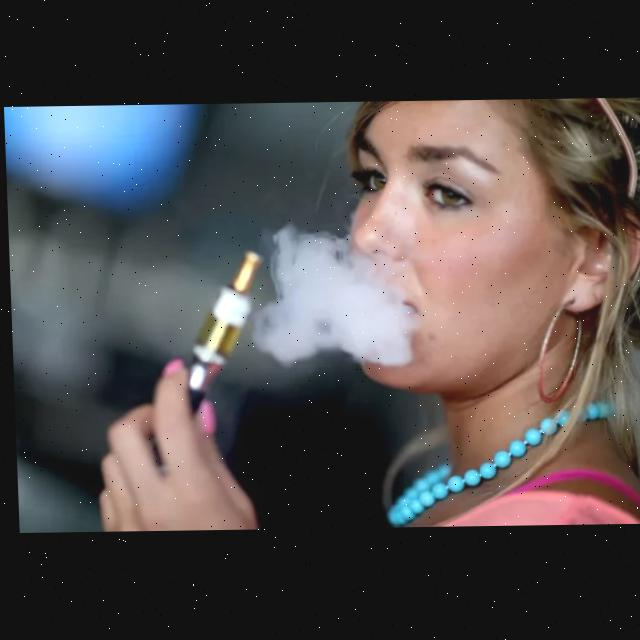vape: (182, 252, 269, 419)
